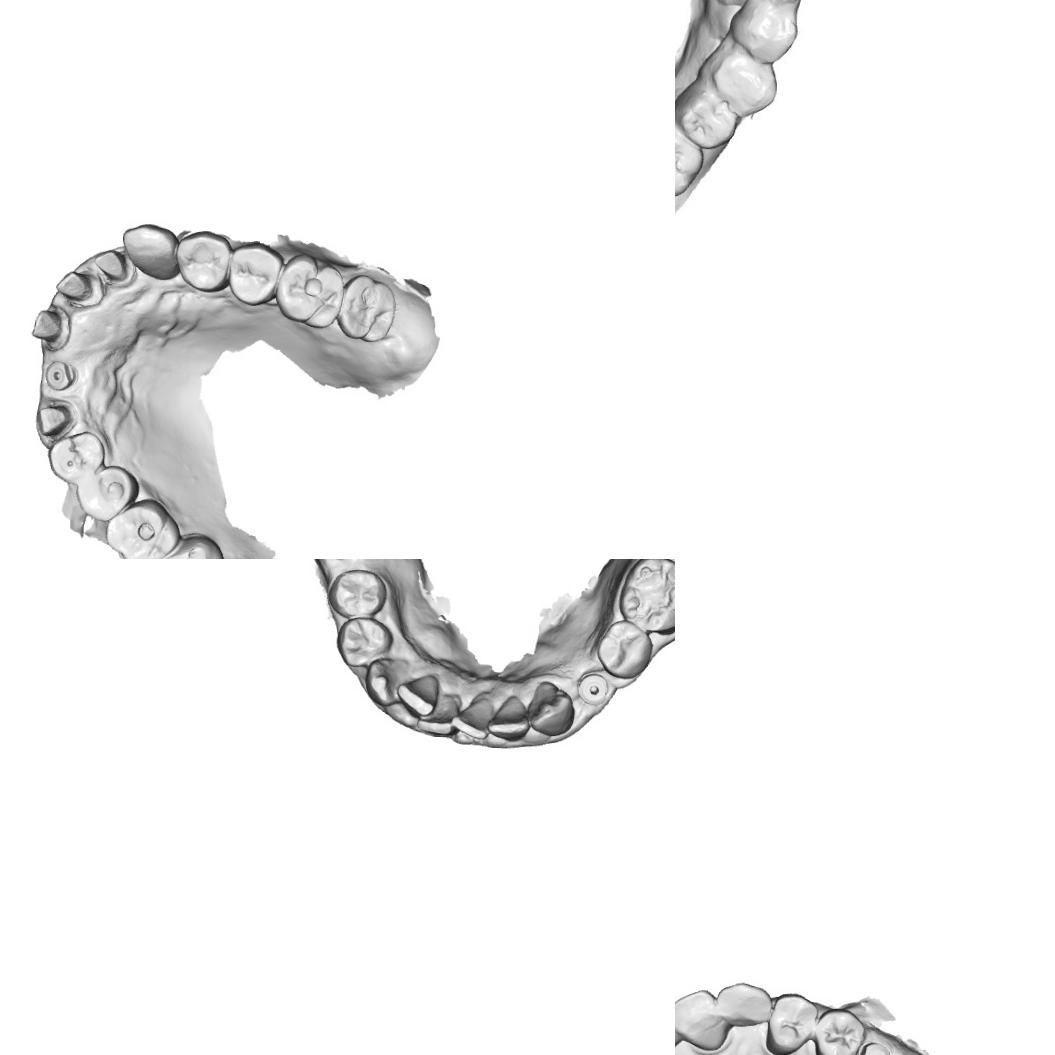canine: (733, 2, 801, 65), (119, 221, 181, 282), (713, 980, 775, 1029), (528, 678, 575, 736), (363, 653, 404, 709)
crown: (52, 266, 104, 308), (25, 304, 71, 350), (90, 248, 134, 287), (33, 400, 75, 440)
implant: (44, 358, 78, 392), (576, 672, 610, 706), (857, 1040, 892, 1055)
incisor: (675, 987, 726, 1053), (490, 693, 536, 743), (452, 693, 498, 742), (416, 692, 456, 738), (398, 671, 436, 719)
molar: (272, 249, 346, 332), (334, 272, 399, 345), (618, 559, 675, 636), (675, 124, 707, 203), (144, 531, 227, 559)
premolar: (102, 495, 182, 559), (714, 48, 778, 118), (675, 84, 740, 150), (172, 226, 232, 296), (74, 463, 141, 525), (226, 241, 286, 310), (594, 619, 654, 680), (763, 991, 819, 1055), (45, 429, 107, 484), (328, 568, 388, 620), (336, 615, 394, 668), (813, 1007, 866, 1055)
